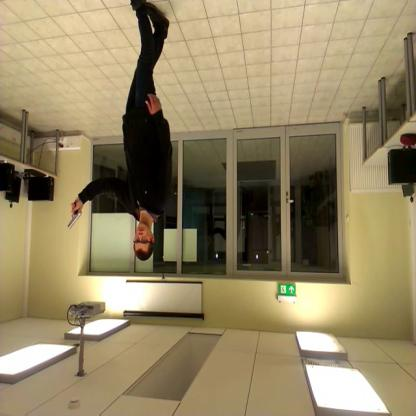Pistol: (63, 194, 87, 236)
